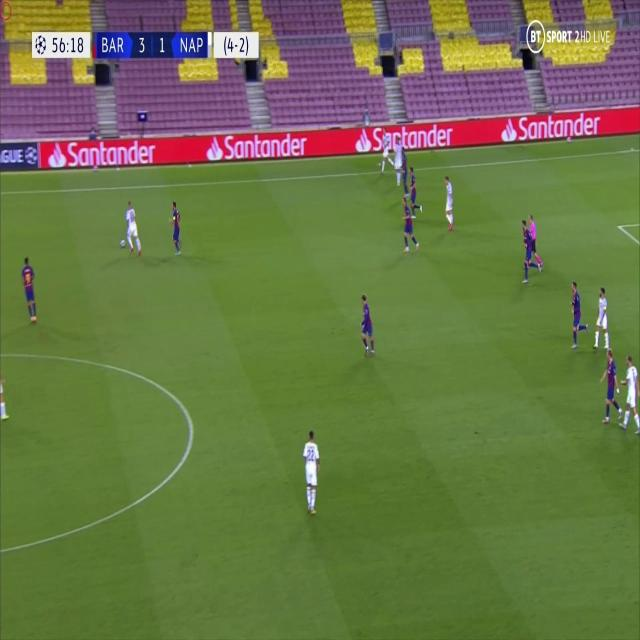ball: (119, 236, 125, 248)
player: (301, 422, 322, 515), (599, 350, 621, 424), (619, 353, 639, 432), (566, 278, 586, 350), (523, 212, 544, 280), (19, 254, 39, 324), (592, 285, 612, 352), (357, 292, 376, 359), (123, 198, 142, 256), (519, 215, 535, 282), (400, 198, 419, 253), (166, 198, 183, 257), (441, 172, 456, 232), (406, 163, 421, 214), (379, 124, 392, 172), (400, 146, 411, 195), (393, 135, 402, 187)
